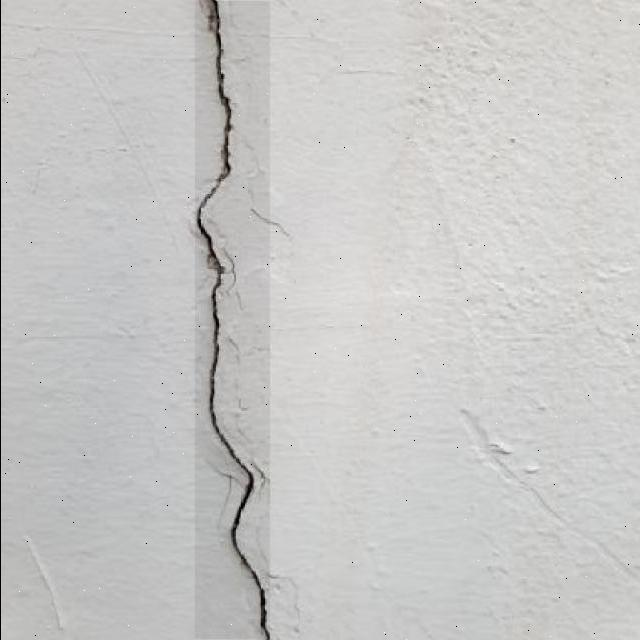crack: (263, 1, 640, 172), (190, 0, 276, 639), (456, 204, 640, 356), (4, 9, 566, 43), (21, 527, 184, 636), (460, 1, 636, 100), (199, 3, 241, 276), (382, 0, 492, 102), (266, 0, 413, 67), (2, 14, 197, 47), (221, 95, 279, 198), (225, 230, 283, 319), (25, 535, 68, 633), (213, 1, 270, 66), (12, 327, 162, 344), (86, 307, 155, 342), (27, 146, 55, 198), (211, 0, 270, 19), (594, 262, 635, 283), (187, 215, 206, 242), (492, 278, 511, 297), (117, 145, 130, 154)
dampens: (195, 179, 227, 295), (204, 7, 220, 34), (219, 71, 226, 81)
dampness: (8, 303, 173, 499)
